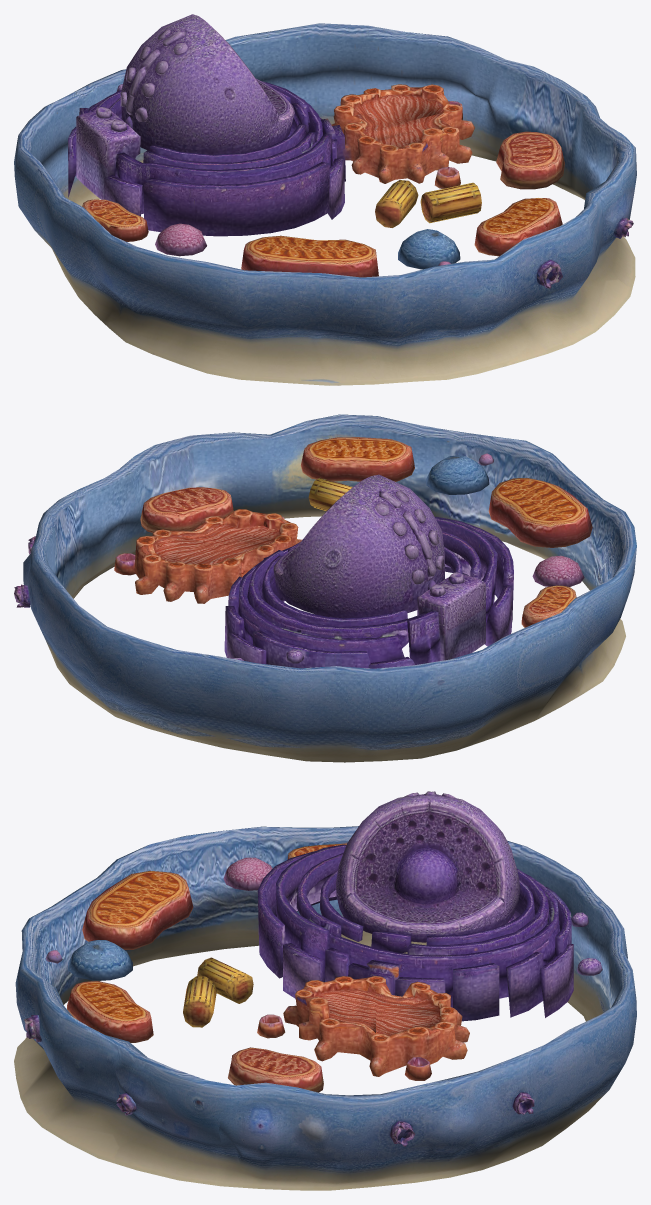
File: animal-tripo.failed-tripo.glb
3 views of the same model, one above another, from view 1: azimuth 30°, elevation 25°; view 2: azimuth 150°, elevation 25°; view 3: azimuth 270°, elevation 25° (orthographic). The views are drawn at different scales.
Visible parts, largest first — view 1: tripo_node_12eed0c6-4122-4e03-8fa4-fa3c5321433f; view 2: tripo_node_12eed0c6-4122-4e03-8fa4-fa3c5321433f; view 3: tripo_node_12eed0c6-4122-4e03-8fa4-fa3c5321433f.
Part boxes in pixels (x1,y1,x2,y2): tripo_node_12eed0c6-4122-4e03-8fa4-fa3c5321433f: (14, 14, 636, 385); tripo_node_12eed0c6-4122-4e03-8fa4-fa3c5321433f: (14, 414, 636, 762); tripo_node_12eed0c6-4122-4e03-8fa4-fa3c5321433f: (14, 791, 636, 1190).
Bounding box in the file's own units: 0.999 × 0.4004 × 0.9927.
Materials: 1 (1 with a texture image).
